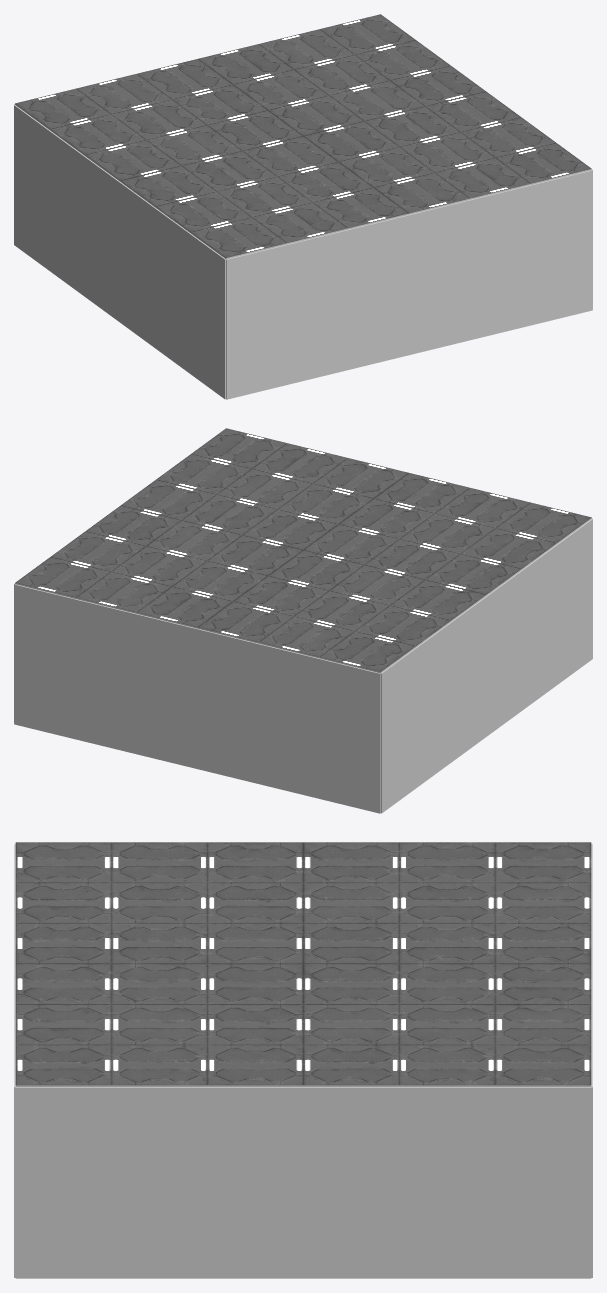
File: magicDuplicate.fbx
The picture shows the model from 3 angles, top to bottom: view 1: azimuth 30°, elevation 25°; view 2: azimuth 150°, elevation 25°; view 3: azimuth 270°, elevation 25°; orthographic projection. The views are drawn at different scales.
Parts seen in each view (by area): view 1: Plane; view 2: Plane; view 3: Plane.
Boxes of the visible parts, x1,y1,x2,y2 form: Plane: [14, 14, 592, 399]; Plane: [14, 428, 592, 813]; Plane: [14, 842, 592, 1278].
Bounding box in the file's own units: 1651 × 606 × 1651.
